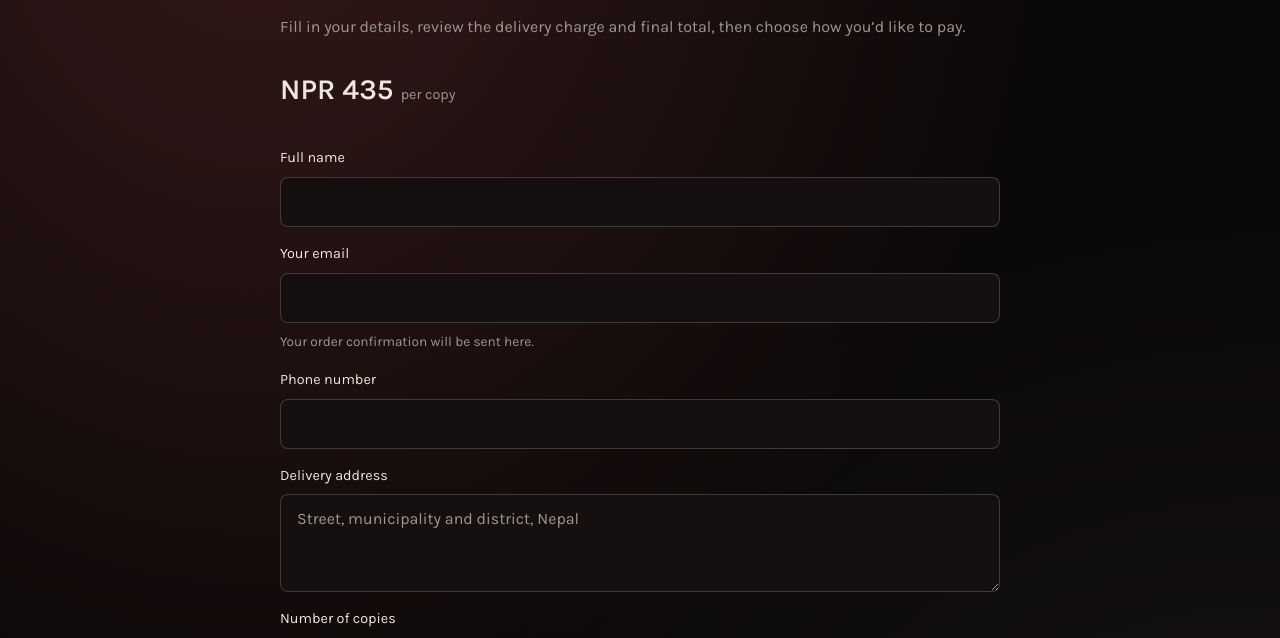
Test case: changing quantity resets the review and calculates a single flat delivery charge
Type "Sample Reader" into the field labelled "Full name" at (640, 202), box [280,177,1000,227]
Type "reader@example.test" into the field labelled "Your email" at (640, 298), box [280,273,1000,323]
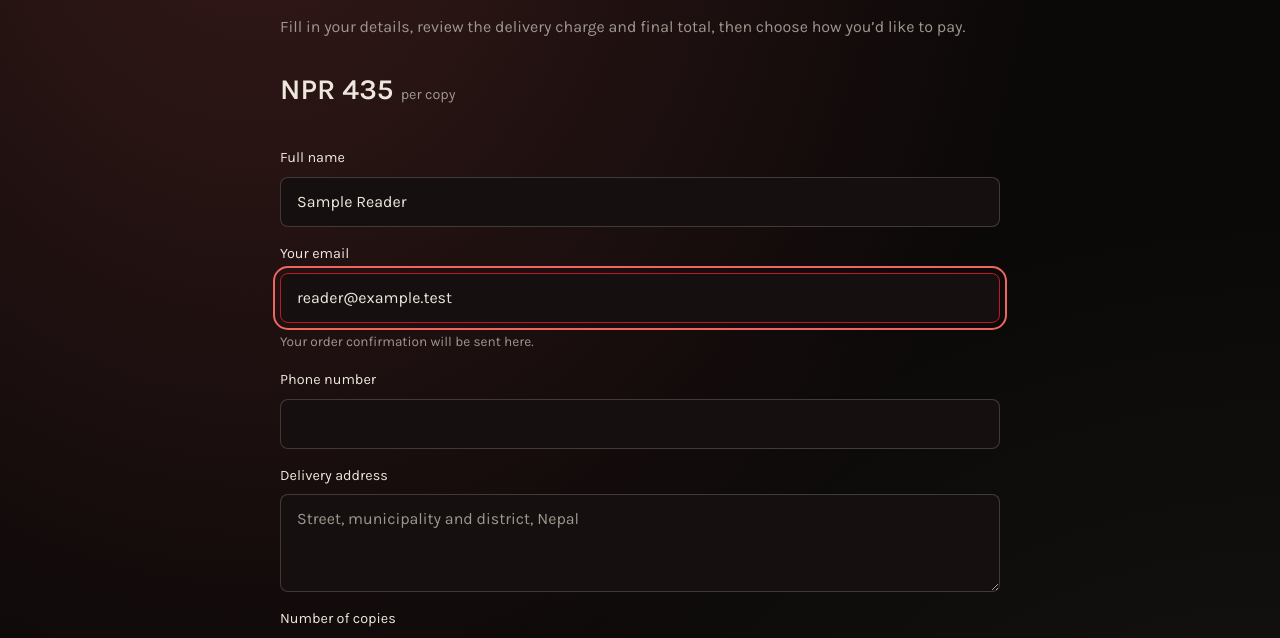
Type "+977 9800000000" into the field labelled "Phone number" at (640, 424), box [280,399,1000,449]
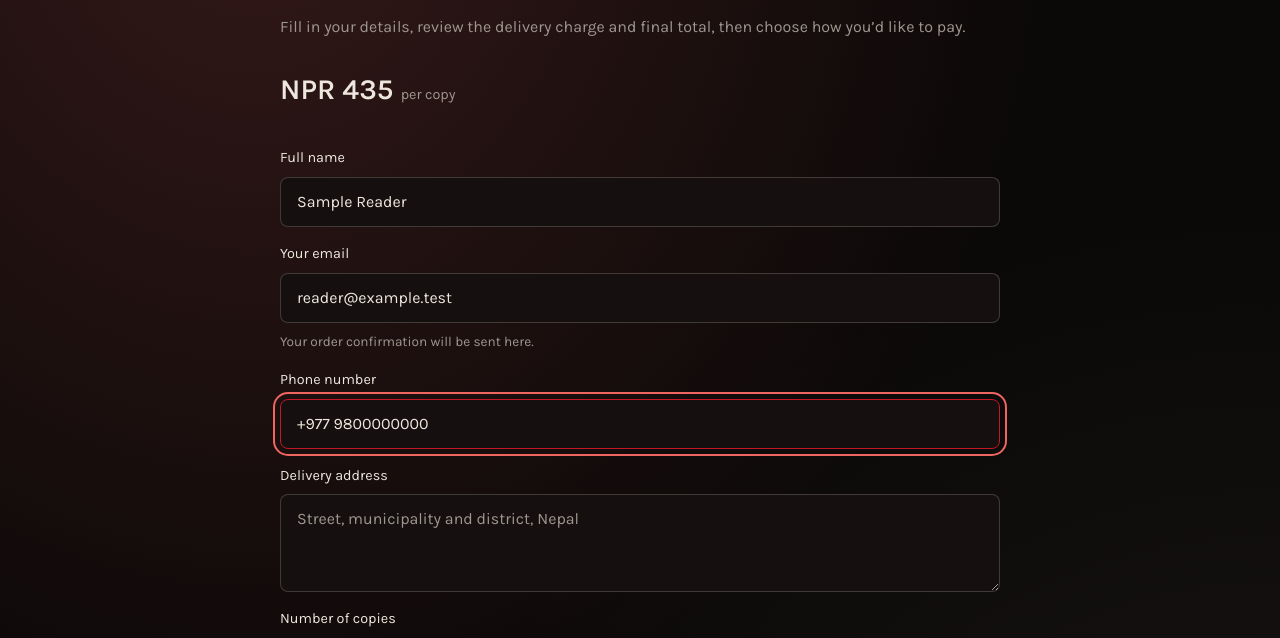
Type "Sample address, Jhapa, Nepal" into the text box labelled "Delivery address" at (640, 543), box [280,494,1000,592]
(page scrolled)
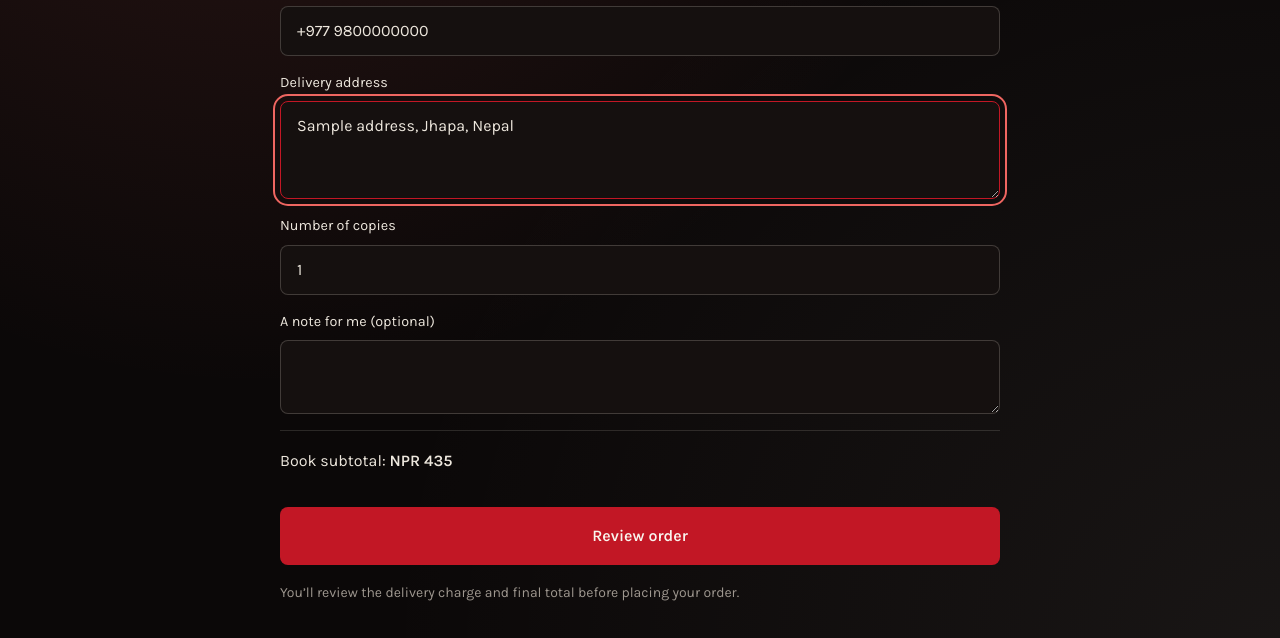
Click the button "Review order" at (640, 536), box [280,508,1000,566]
(page scrolled)
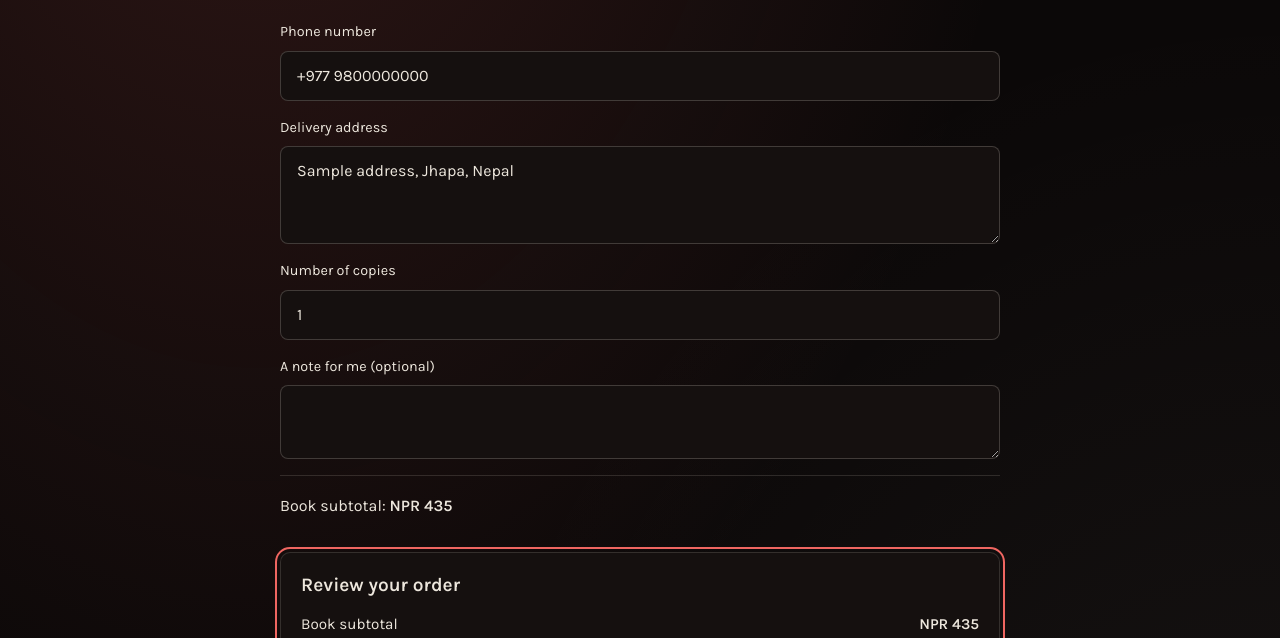
Replace the text in the number field labelled "Number of copies" with "3" at (640, 315), box [280,290,1000,340]
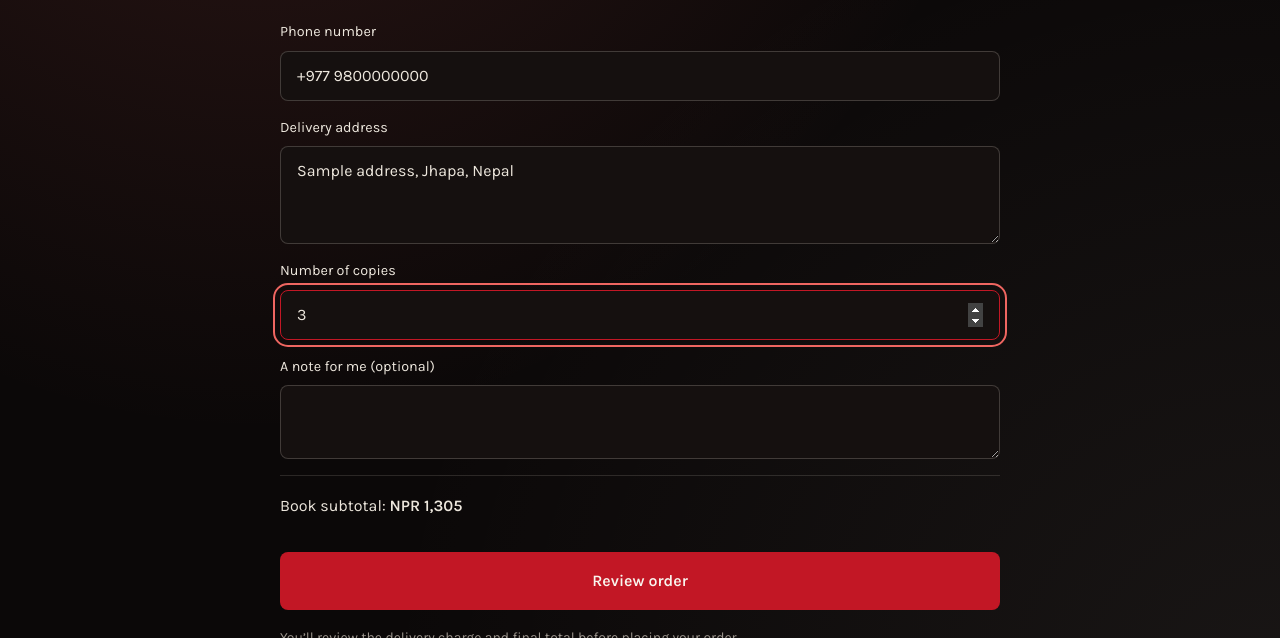
Expected: the heading "Review your order" is not shown
Click the button "Review order" at (640, 582), box [280,552,1000,610]
(page scrolled)
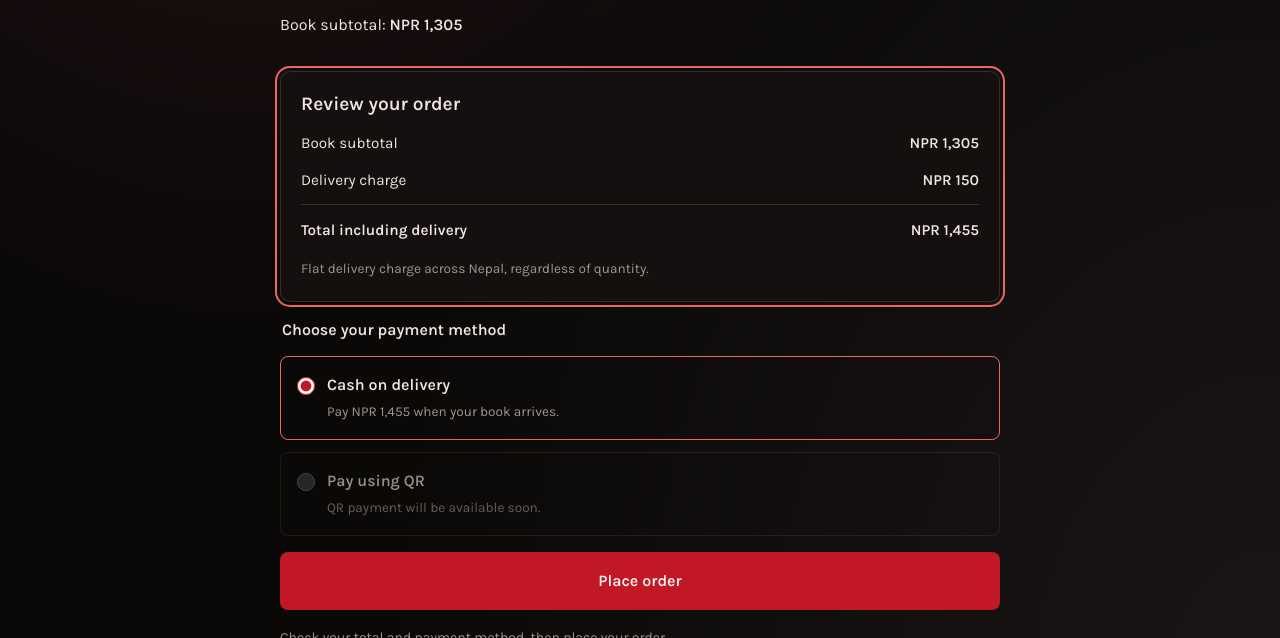
Expected: the text "NPR 1,455" is shown, [911,217,979,243]
Expected: the text "NPR 150" is shown, [923,167,979,194]
